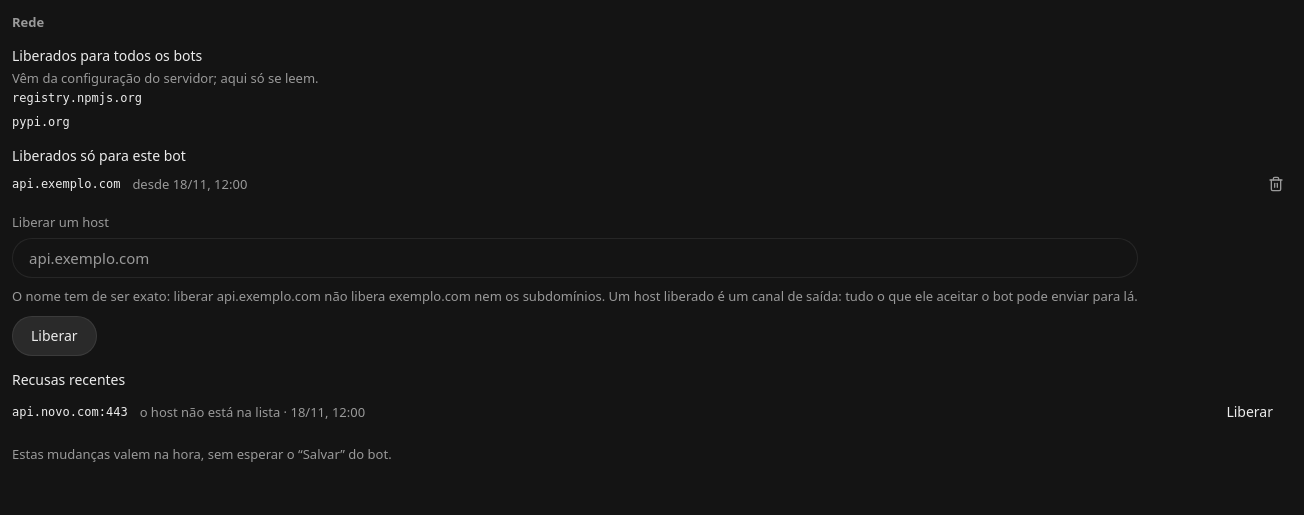
the Rede section of a bot › adds a host exactly as typed (trimmed) and shows what the server answers
Expected: the list with test id "network-defaults" is shown, x1=12 y1=91 x2=142 y2=129
In the field labelled "Liberar um host": (575, 258) x1=12 y1=238 x2=1138 y2=278, type "  novo.exemplo.com "
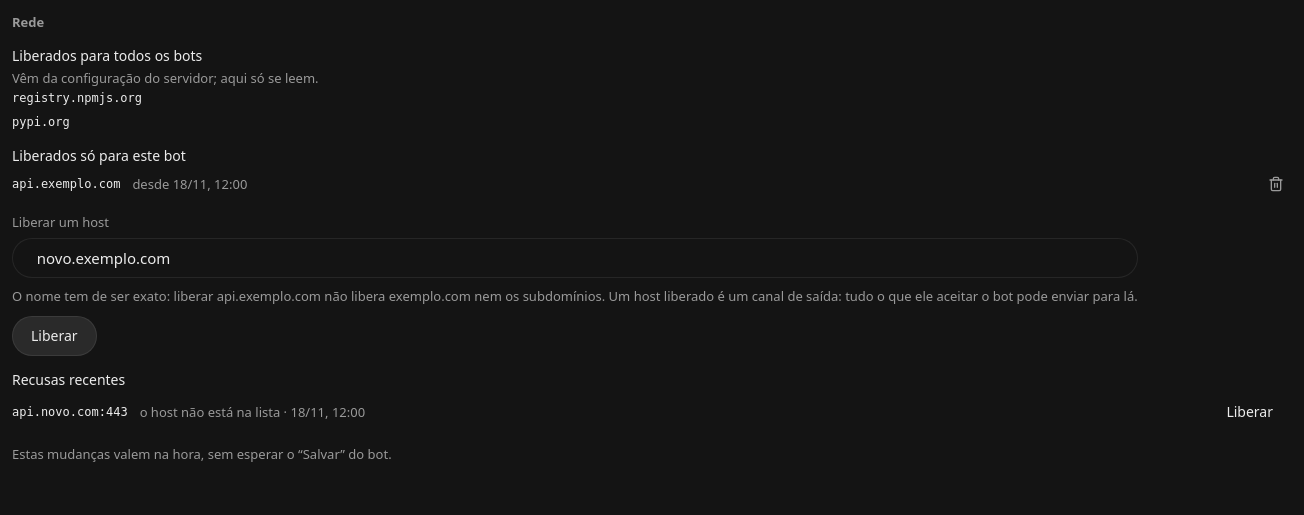
Click the button with test id "network-add": (54, 336) x1=12 y1=316 x2=97 y2=356
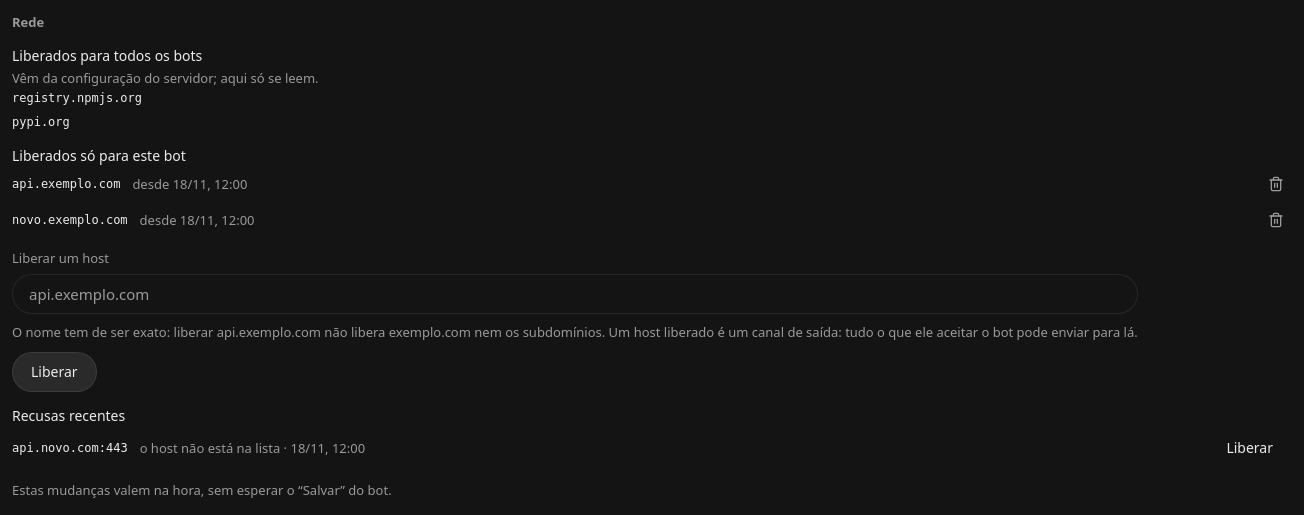
Result: the text "api.exemplo.com" is shown 2 times at x1=12 y1=174 x2=120 y2=194; x1=12 y1=210 x2=128 y2=230
Result: the field labelled "Liberar um host" is empty at x1=12 y1=274 x2=1138 y2=314
